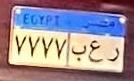7: (41, 35, 54, 61), (27, 35, 40, 58), (55, 36, 67, 59), (14, 34, 26, 57)
ain: (88, 39, 104, 65)
baa: (71, 44, 87, 64)
raa: (105, 44, 120, 64)
